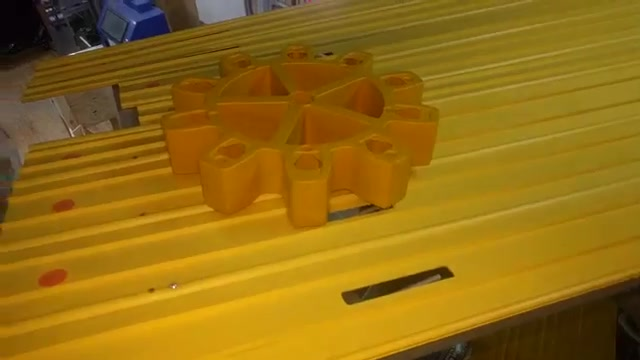gear: (149, 40, 451, 234)
